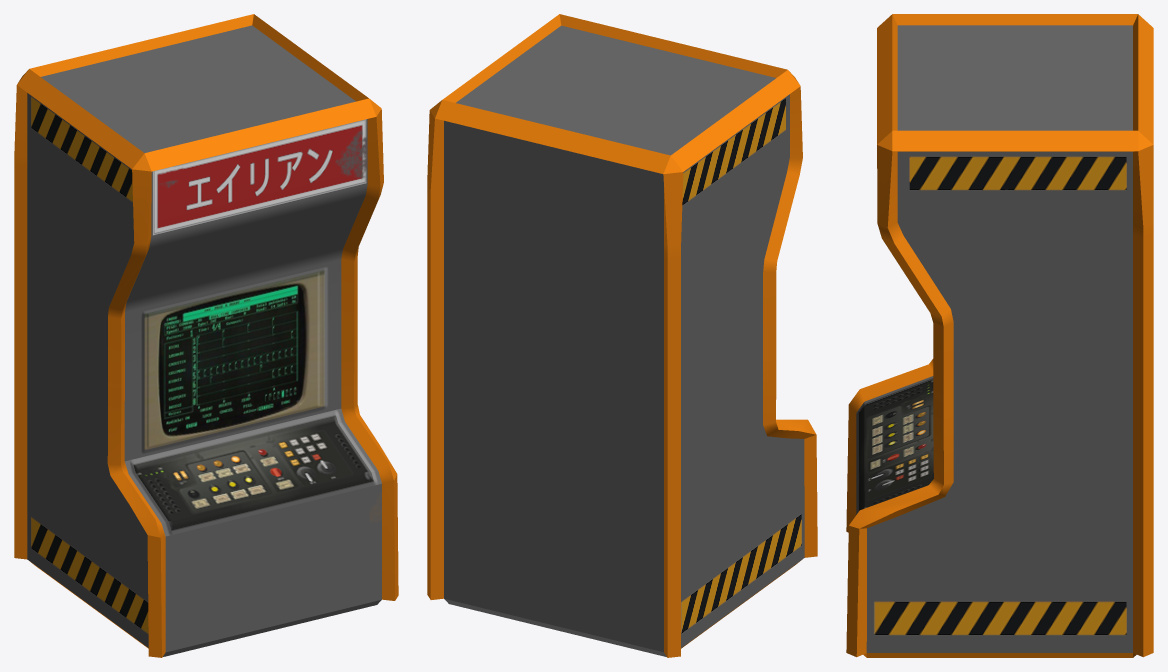
Rendered from computer_panel.fbx.
The picture shows the model from 3 angles, left to right: view 1: azimuth 30°, elevation 25°; view 2: azimuth 150°, elevation 25°; view 3: azimuth 270°, elevation 25°; orthographic projection. The views are drawn at different scales.
Visible parts, largest first — view 1: pCube2; view 2: pCube2; view 3: pCube2.
Part boxes in pixels (x1=…): pCube2: x1=14, y1=14, x2=398, y2=657; pCube2: x1=427, y1=14, x2=817, y2=657; pCube2: x1=846, y1=14, x2=1153, y2=657.
Bounding box in the file's own units: 107 × 204 × 107.
Materials: 1 (1 with a texture image).
